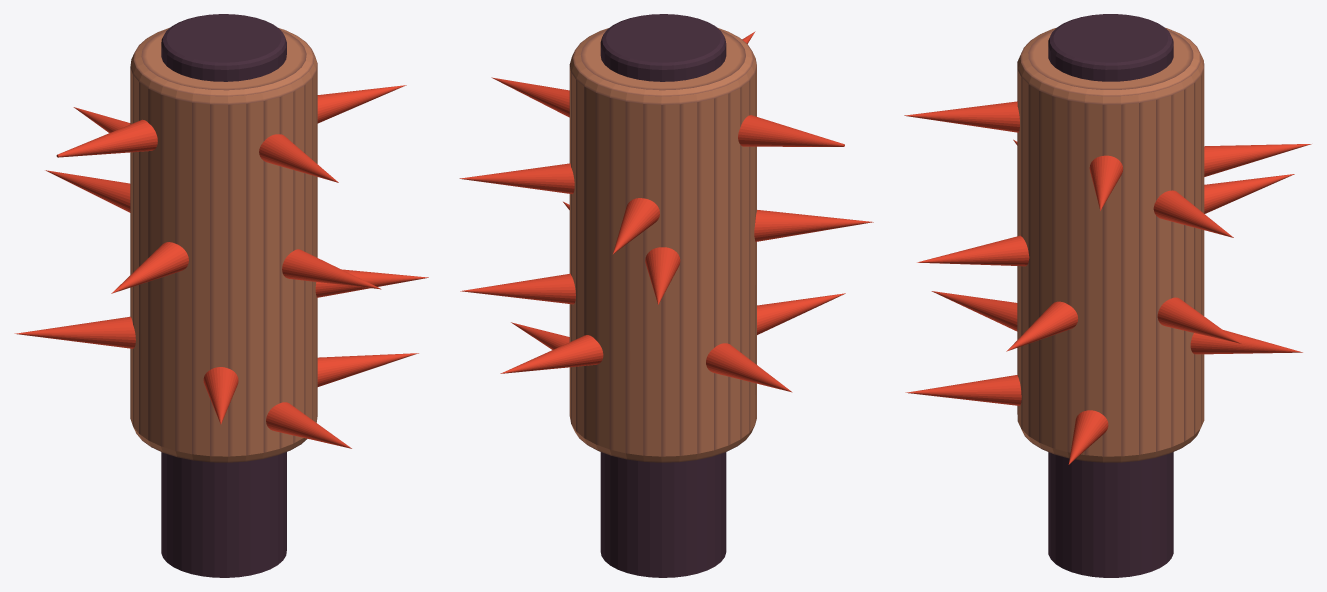
Rendered from spinner.obj.
The picture shows the model from 3 angles, left to right: view 1: azimuth 30°, elevation 25°; view 2: azimuth 150°, elevation 25°; view 3: azimuth 270°, elevation 25°; orthographic projection.
Visible parts, largest first — view 1: Cylinder.008_Cylinder.012; view 2: Cylinder.008_Cylinder.012; view 3: Cylinder.008_Cylinder.012.
Boxes of the visible parts, x1=… form: Cylinder.008_Cylinder.012: x1=14, y1=14, x2=428, y2=577; Cylinder.008_Cylinder.012: x1=459, y1=14, x2=873, y2=577; Cylinder.008_Cylinder.012: x1=904, y1=14, x2=1311, y2=577.
Size of the model in its own units: 10.01 by 13.96 by 10.1.
